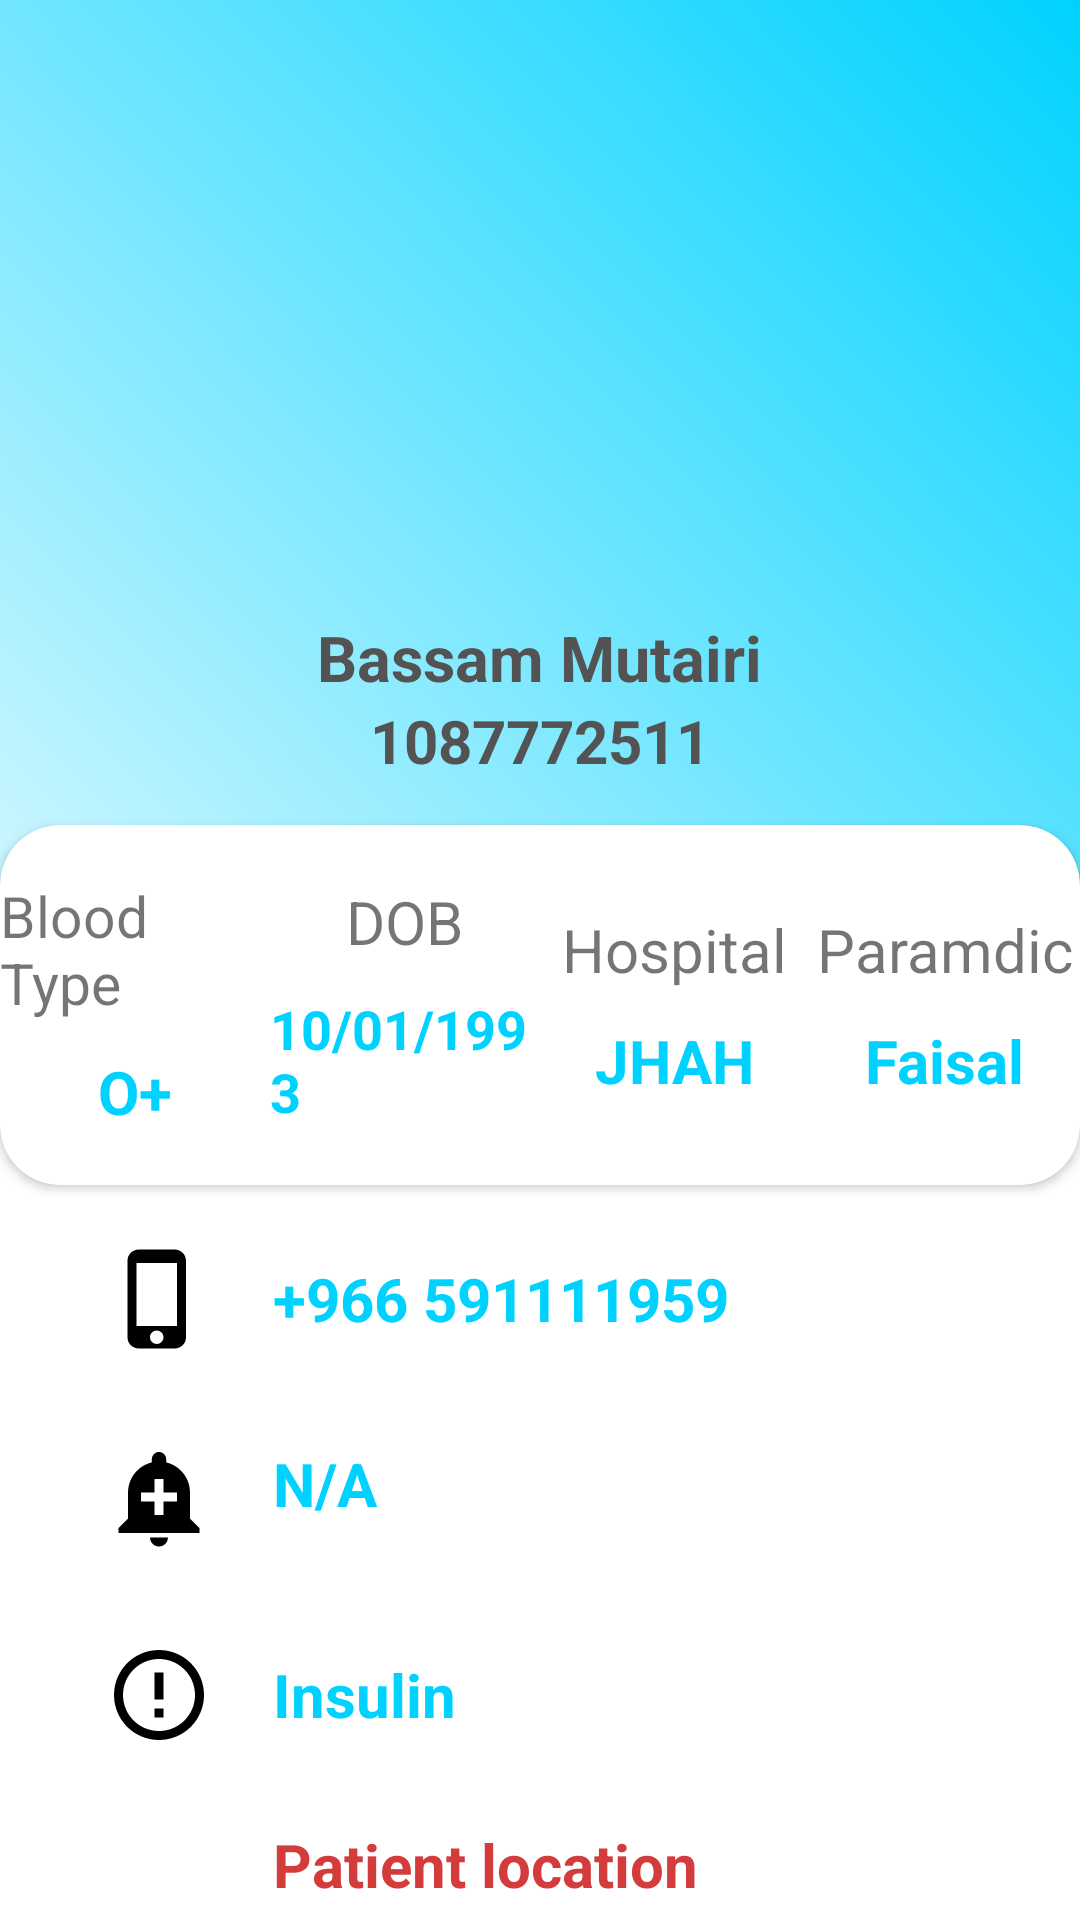

Where to tap for icons on this 1080 x 1920 app screen, as point (x, y):
iphoneicon: point (156, 1299)
